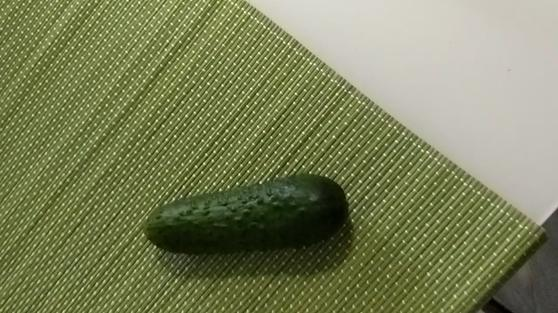cucumber: (149, 174, 350, 256)
